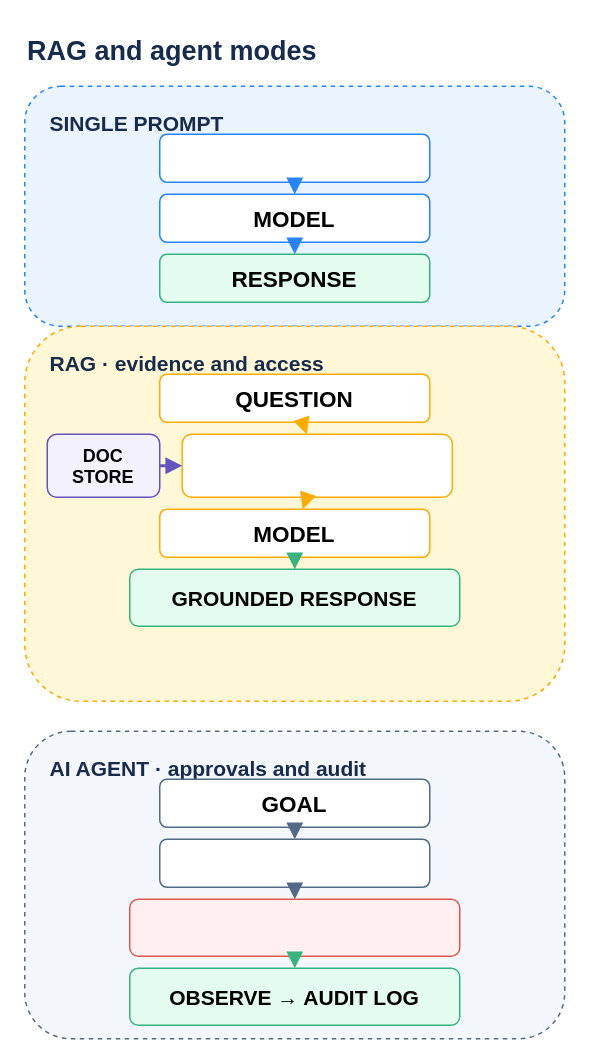
This 590x1064 diagram has some shape labels left out. The shapes that lost their labels are listed below. From the top down, each one's centre as x and y in pixels, then its label:
point 294,157: PROMPT
point 316,465: RETRIEVE DOCUMENTS authorized only
point 294,862: PLAN
point 294,927: TOOL + APPROVAL
